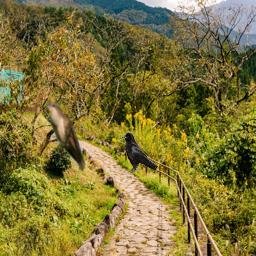Crow: (121, 132, 158, 172)
Cuckoo: (46, 102, 86, 172)
